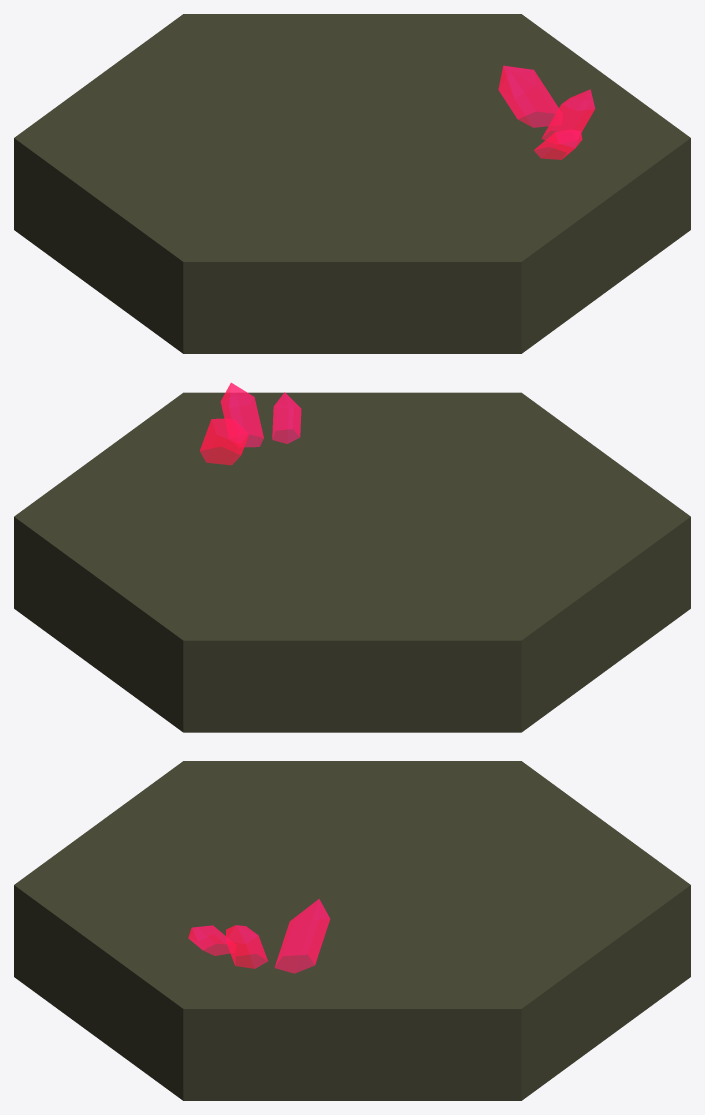
The model's file is GroundUnit(2).fbx.
3 renders of one model, top to bottom at view 1: azimuth 30°, elevation 25°; view 2: azimuth 150°, elevation 25°; view 3: azimuth 270°, elevation 25°, orthographic.
Parts seen in each view (by area): view 1: GroundUnit1.1; view 2: GroundUnit1.1; view 3: GroundUnit1.1.
Boxes of the visible parts, x1,y1,x2,y2 form: GroundUnit1.1: [14, 14, 690, 353]; GroundUnit1.1: [14, 382, 690, 732]; GroundUnit1.1: [14, 761, 690, 1100].
Size of the model in its own units: 173 by 46.89 by 200.
